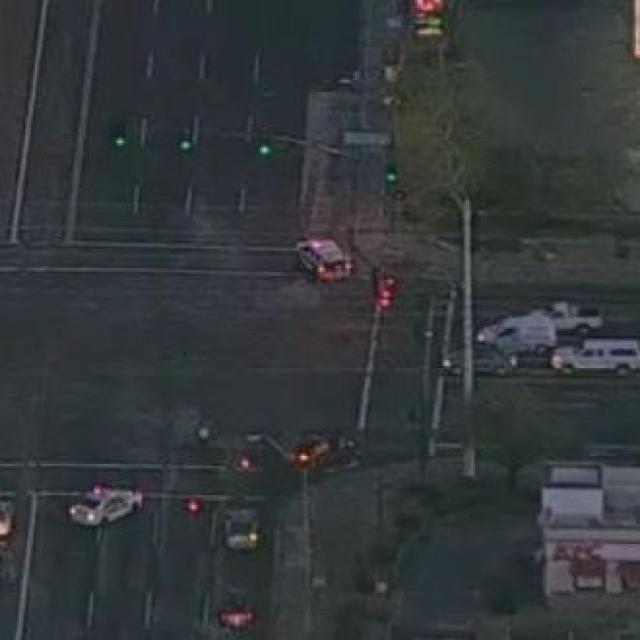traffic_incident: (291, 227, 349, 284)
